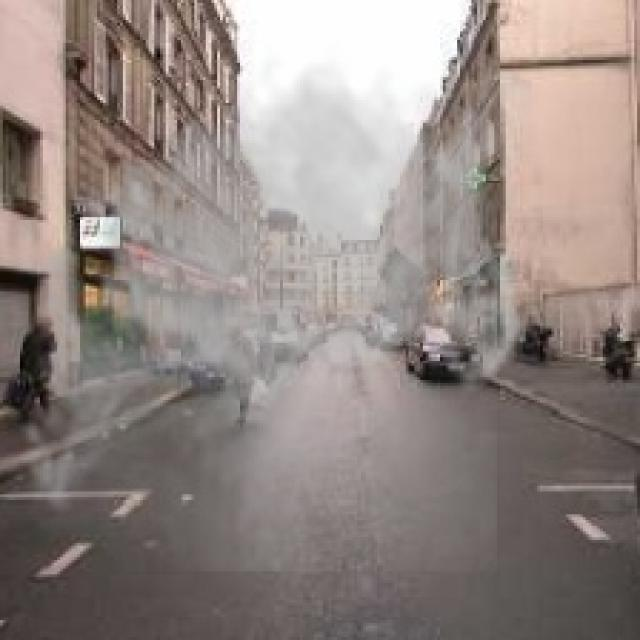smoke: (6, 43, 531, 571)
